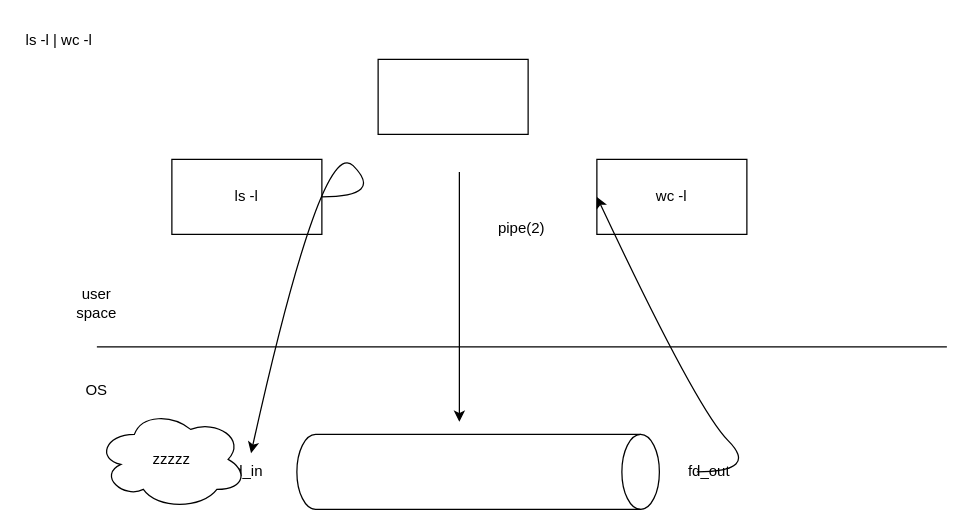
This 970x531 diagram has some shape labels left out. Here are the shapes that lost their labels. From the top down, the centre of each, then its label:
point (452, 96): shell
point (477, 471): 4096 bytes
